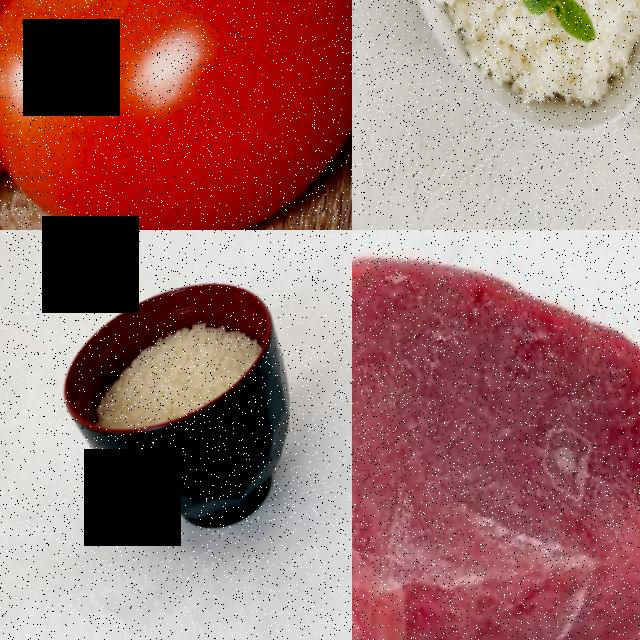tomato: (0, 0, 352, 230), (0, 0, 100, 230)
tuna: (352, 230, 640, 640)
white rice: (87, 318, 265, 455), (441, 0, 553, 131), (560, 0, 640, 68)
